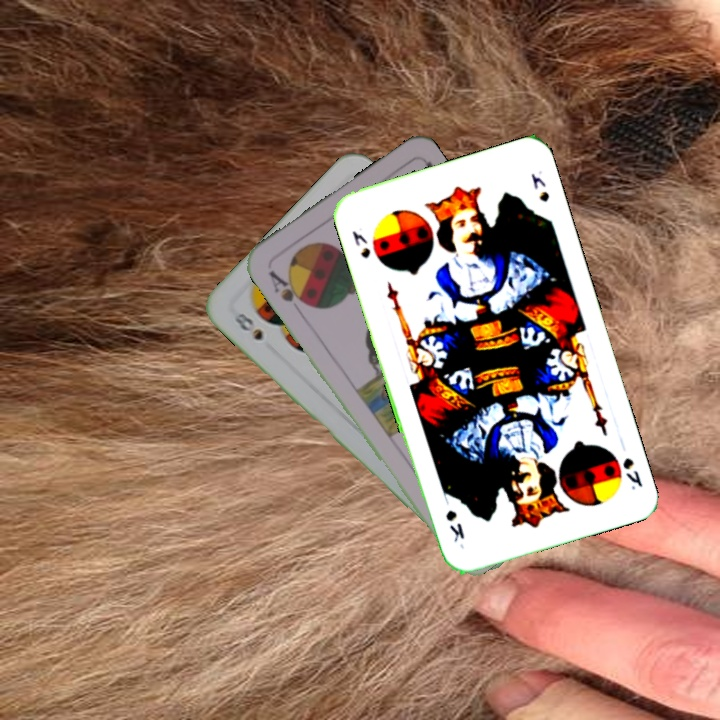S8: (227, 307, 266, 343)
SA: (264, 266, 312, 310)
SK: (618, 453, 645, 493), (348, 226, 373, 261)
